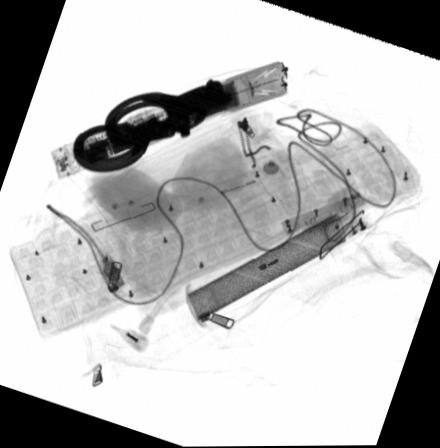Baton: (49, 58, 289, 181)
HandCuffs: (71, 78, 225, 174)
